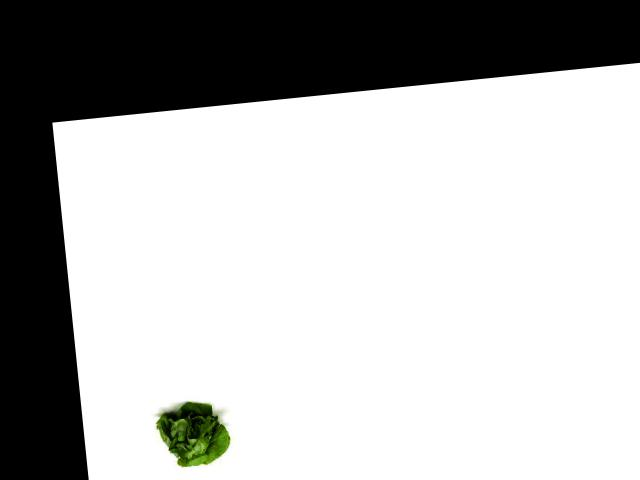lettuce: (152, 394, 234, 475)
